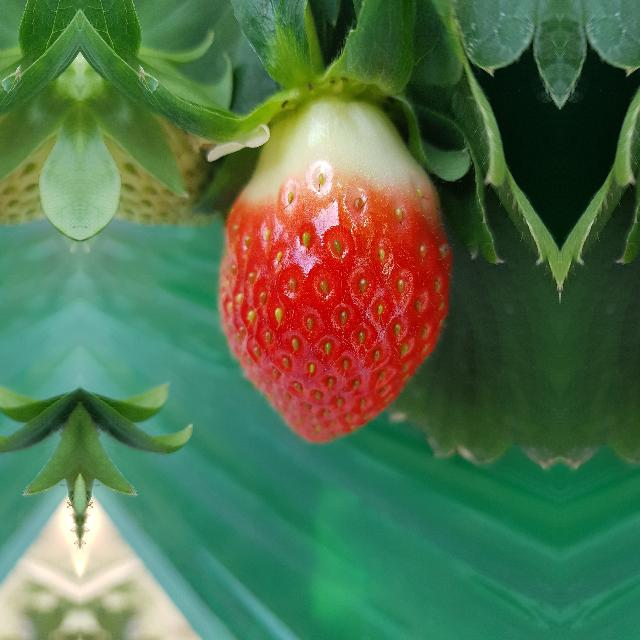Health_100: (216, 93, 454, 444)
